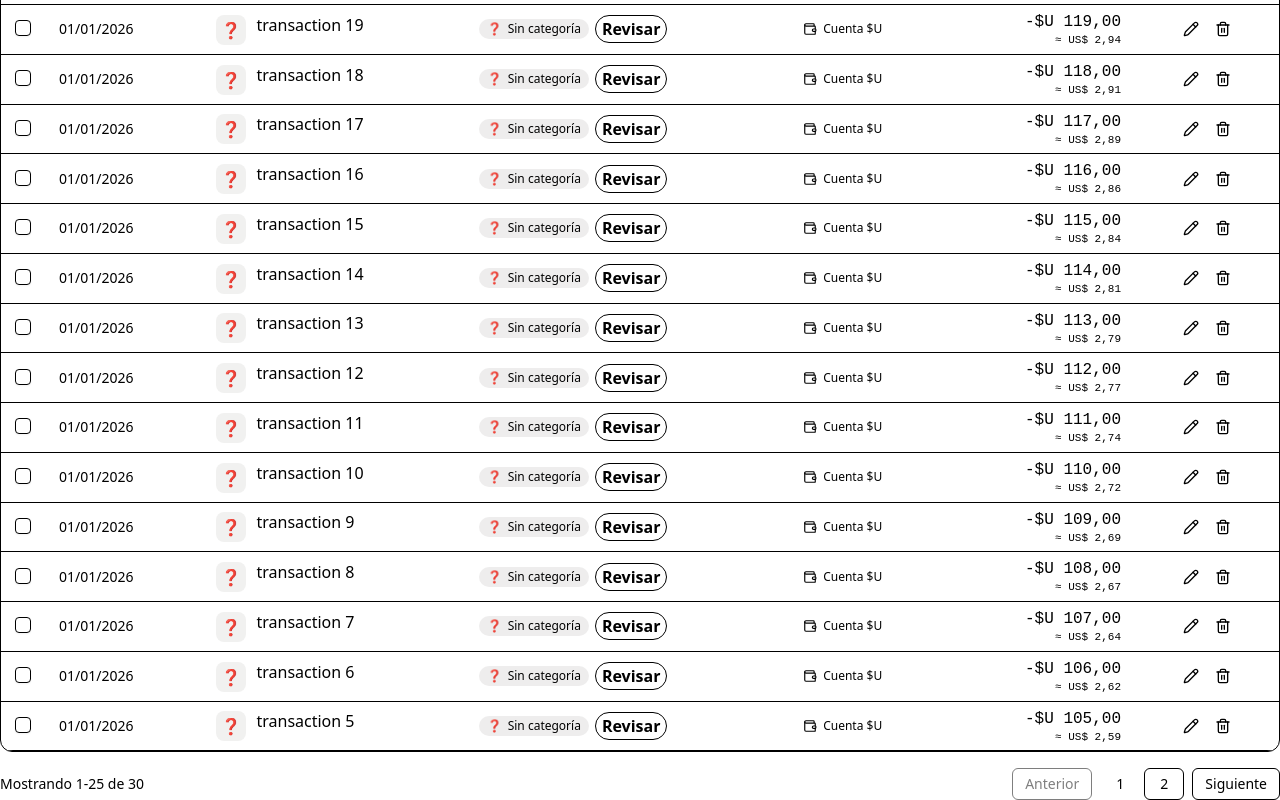
Test: Transactions › clamps pagination when filtering reduces total pages
(page scrolled)
Click the button "Siguiente" at (1236, 784), box [1192,768,1279,799]
(page scrolled)
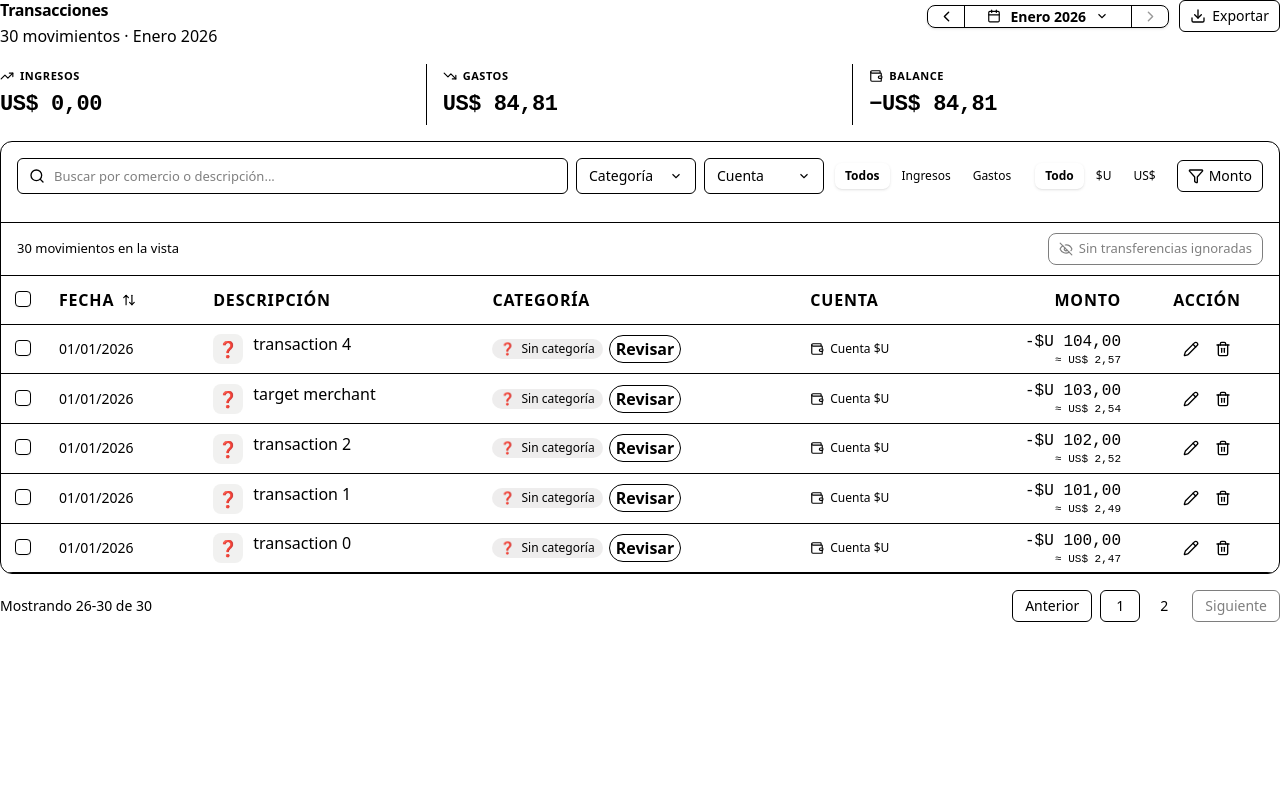
Type "target merchant" into the field with placeholder "Buscar por comercio o descripción..." at (292, 176), box [17,158,568,194]
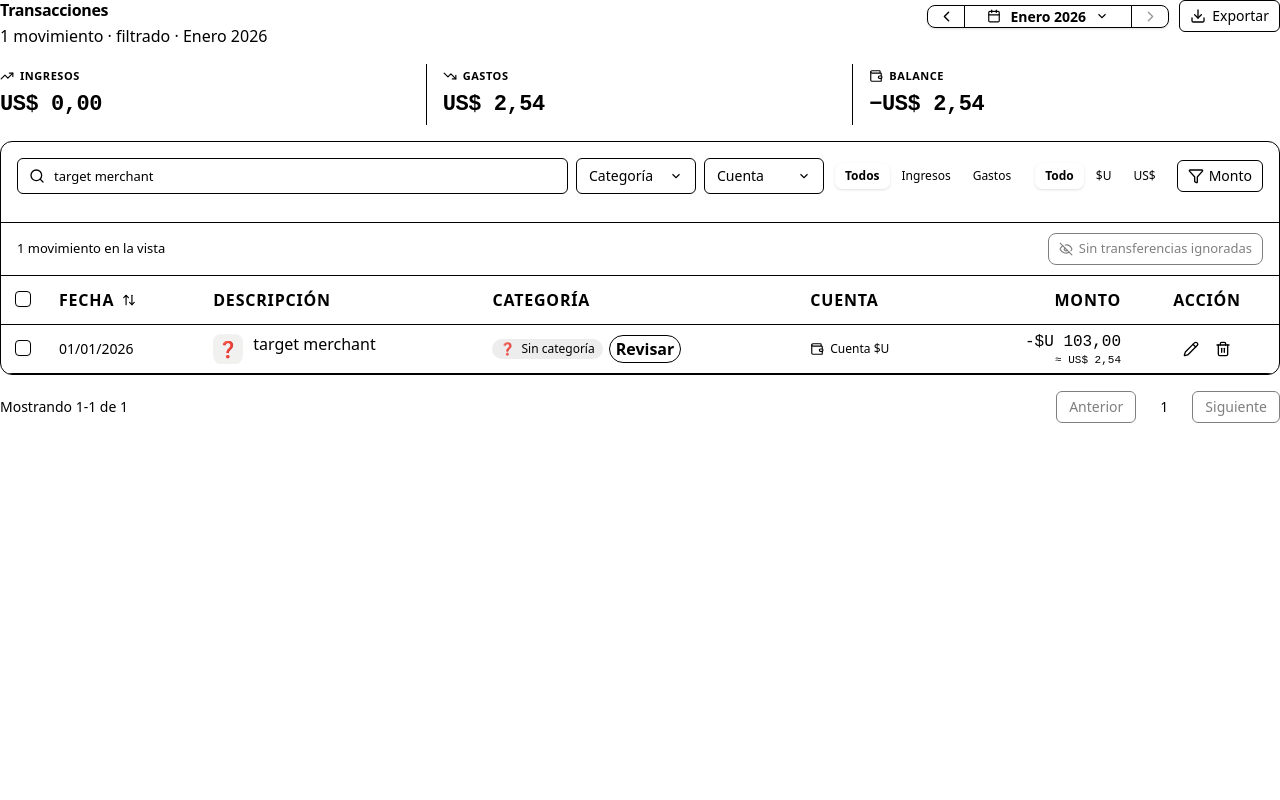
Now the text "target merchant" is shown, box [253,333,376,355]
Now the text "Mostrando 1-1 de 1" is shown, box [0,397,128,417]
